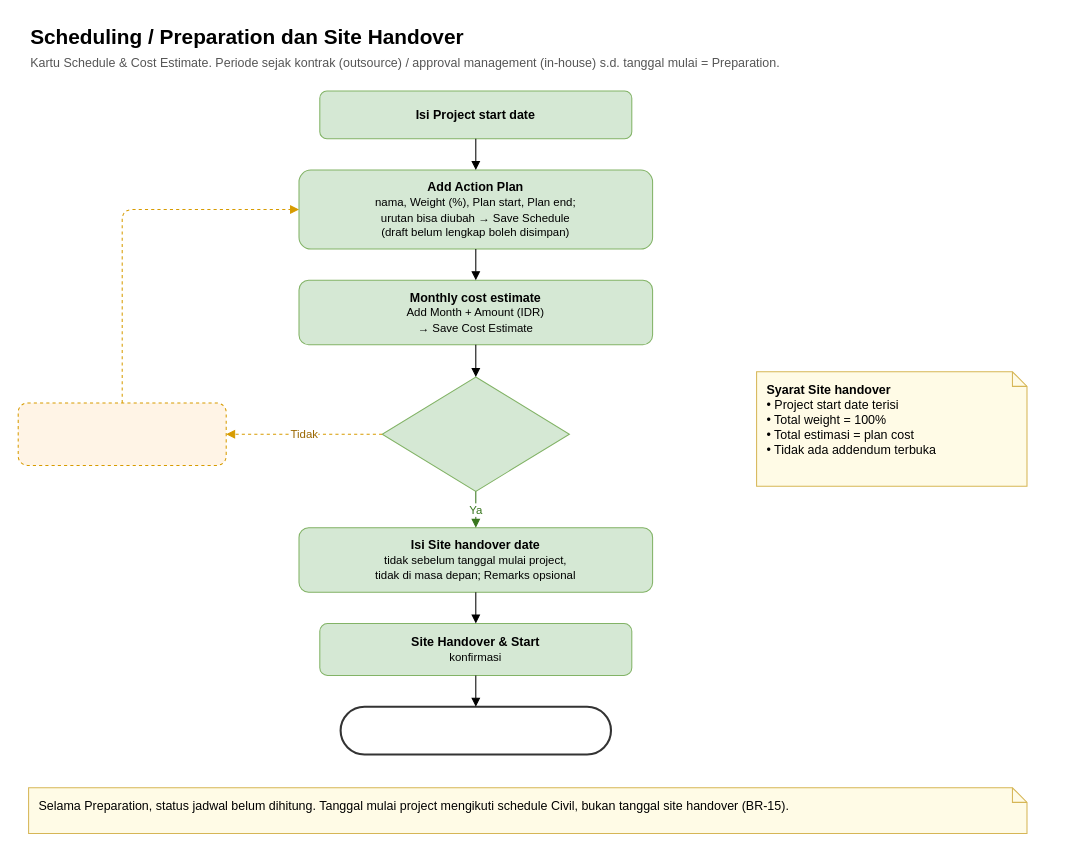
Image size: 1087x852. Some labels were removed from this diagram. Here are the shapes that lost their labels. From the top down, the centre of each, then its label:
At [121,433]: "Lengkapi dulu lihat daftar syarat".
At [475,433]: "Syarat Site handover terpenuhi?".
At [475,730]: "IN PROGRESS".
